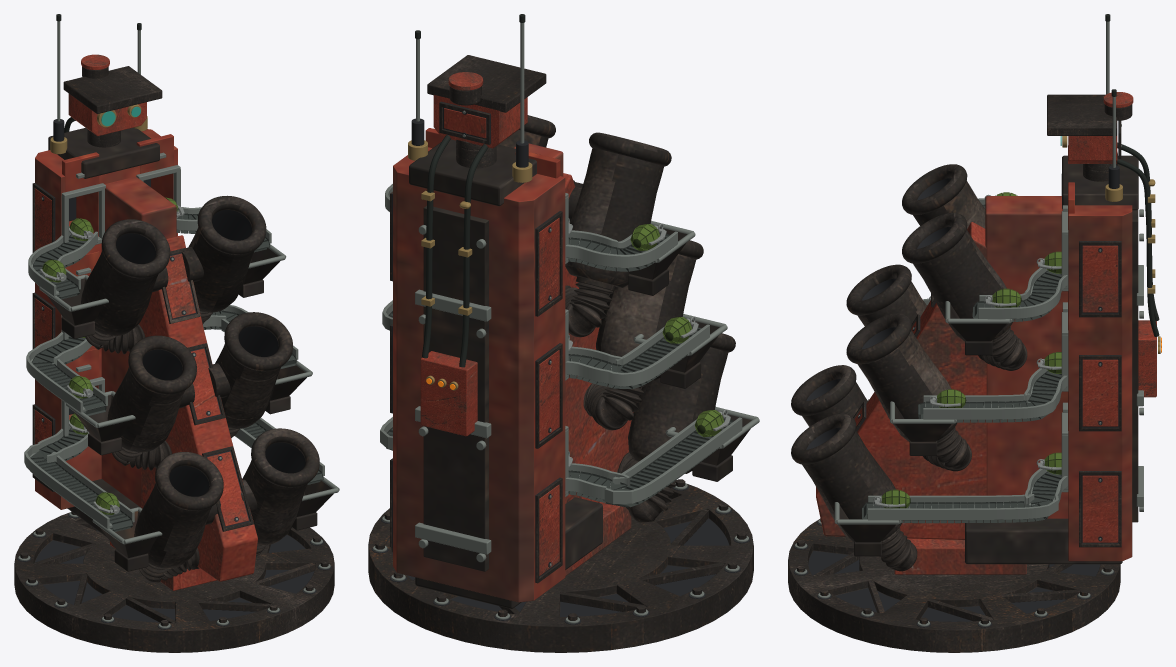
The model's file is six_lobber_independent_recoil_v15.glb.
3 renders of one model, left to right at view 1: azimuth 30°, elevation 25°; view 2: azimuth 150°, elevation 25°; view 3: azimuth 270°, elevation 25°, orthographic. The views are drawn at different scales.
Parts seen in each view (by area): view 1: ROTARY_ADAPTER, CENTRAL_FIN, CENTRAL_AMMUNITION_ARMOURED_SPINE, CENTRAL_ARM_TO_FIN_BRIDGE, CAST_CANNON_BOT_L, CAST_CANNON_MID_L, CAST_CANNON_TOP_L, CAST_CANNON_TOP_R, CAST_CANNON_MID_R, CAST_CANNON_BOT_R, CENTRAL_FEED_TOP_CAP, SLOPED_EXIT_CHUTE_LEFT_3 (+41 smaller); view 2: CENTRAL_AMMUNITION_ARMOURED_SPINE, ROTARY_ADAPTER, SPINE_REAR_SERVICE_COVER, CAST_CANNON_TOP_L, CAST_CANNON_BOT_L, CAST_CANNON_MID_L, CENTRAL_FIN, SLOPED_EXIT_CHUTE_LEFT_3, REAR_CONTROL_SENSOR_BOX, CENTRAL_FEED_TOP_CAP, SLOPED_EXIT_CHUTE_LEFT_2, OPTICAL_HEAD_BROW (+37 smaller); view 3: ROTARY_ADAPTER, CENTRAL_ARM_TO_FIN_BRIDGE, CENTRAL_AMMUNITION_ARMOURED_SPINE, CENTRAL_FIN, CENTRAL_FEED_BASE_CASTING, CAST_CANNON_TOP_R, CAST_CANNON_BOT_R, CAST_CANNON_MID_R, SLOPED_EXIT_CHUTE_LEFT_3, SLOPED_EXIT_CHUTE_LEFT_2, OPTICAL_HEAD_BROW, FIN_ROOT (+34 smaller).
Boxes of the visible parts, x1,y1,x2,y2 form: ROTARY_ADAPTER: (14,512,334,652); CENTRAL_FIN: (141,235,257,581); CENTRAL_AMMUNITION_ARMOURED_SPINE: (35,129,177,509); CENTRAL_ARM_TO_FIN_BRIDGE: (101,176,176,507); CAST_CANNON_BOT_L: (134,466,211,568); CAST_CANNON_MID_L: (107,349,184,452); CAST_CANNON_TOP_L: (81,233,158,335); CAST_CANNON_TOP_R: (188,210,254,312); CAST_CANNON_MID_R: (215,326,280,428); CAST_CANNON_BOT_R: (242,442,307,545); CENTRAL_FEED_TOP_CAP: (48,127,159,178); SLOPED_EXIT_CHUTE_LEFT_3: (24,418,324,528); CENTRAL_AMMUNITION_ARMOURED_SPINE: (393,147,565,602); ROTARY_ADAPTER: (368,480,753,652); SPINE_REAR_SERVICE_COVER: (423,206,488,571); CAST_CANNON_TOP_L: (565,148,663,287); CAST_CANNON_BOT_L: (628,347,728,473); CAST_CANNON_MID_L: (596,254,695,380); CENTRAL_FIN: (563,173,633,503); SLOPED_EXIT_CHUTE_LEFT_3: (380,417,742,504); REAR_CONTROL_SENSOR_BOX: (420,351,477,436); CENTRAL_FEED_TOP_CAP: (409,139,536,206); SLOPED_EXIT_CHUTE_LEFT_2: (382,300,709,386); OPTICAL_HEAD_BROW: (427,55,546,112); ROTARY_ADAPTER: (788,519,1120,652); CENTRAL_ARM_TO_FIN_BRIDGE: (985,196,1068,518); CENTRAL_AMMUNITION_ARMOURED_SPINE: (1068,205,1132,561); CENTRAL_FIN: (816,222,986,539); CENTRAL_FEED_BASE_CASTING: (965,518,1122,564); CAST_CANNON_TOP_R: (913,227,1012,341); CAST_CANNON_BOT_R: (802,427,901,542); CAST_CANNON_MID_R: (857,327,956,441); SLOPED_EXIT_CHUTE_LEFT_3: (868,399,1067,520); SLOPED_EXIT_CHUTE_LEFT_2: (923,298,1067,419); OPTICAL_HEAD_BROW: (1047,94,1117,135); FIN_ROOT: (894,538,1026,574).
Bounding box in the file's own units: 1.56 × 2.83 × 1.75.
15 materials, 2 textured.
